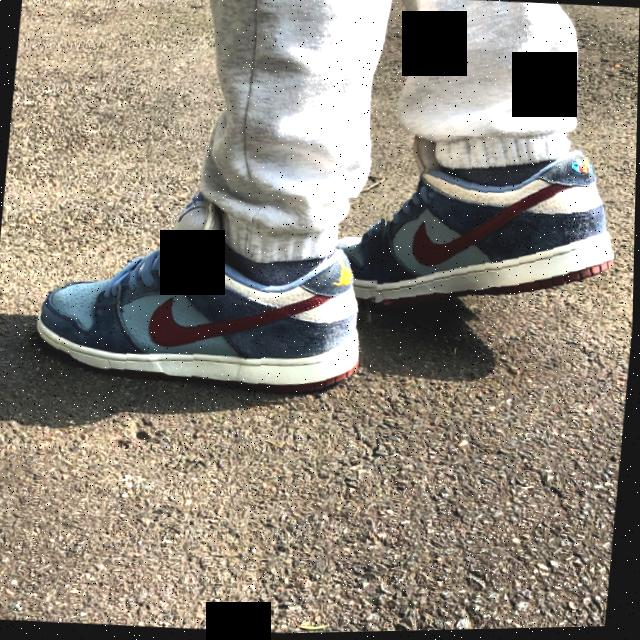shoe: (27, 177, 389, 417), (329, 127, 638, 343)
